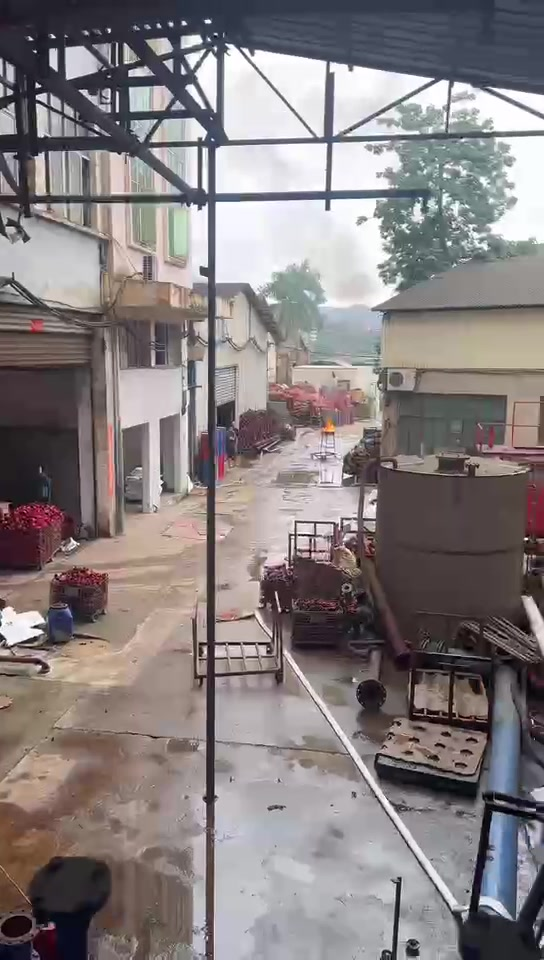fire: (322, 419, 335, 431)
